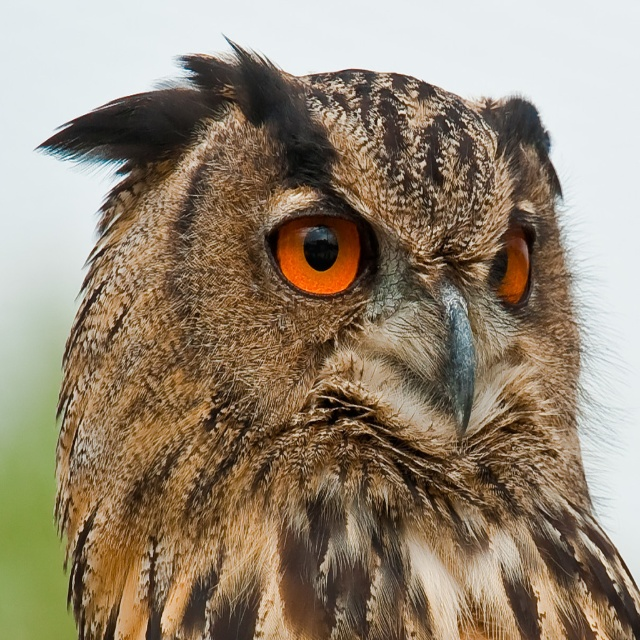Owl: (25, 25, 639, 639)
